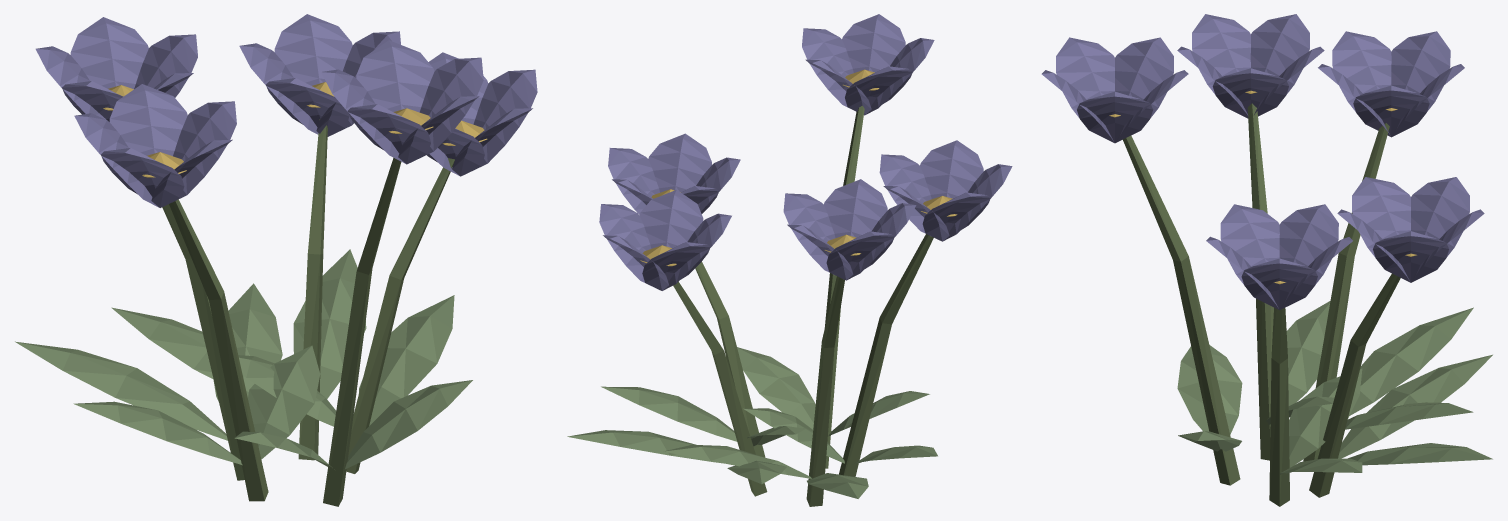
Rendered from alpine_flower_b.glb.
The picture shows the model from 3 angles, left to right: view 1: azimuth 30°, elevation 25°; view 2: azimuth 150°, elevation 25°; view 3: azimuth 270°, elevation 25°; orthographic projection. The views are drawn at different scales.
Parts seen in each view (by area): view 1: geometry; view 2: geometry; view 3: geometry.
Part boxes in pixels (<box>): geometry: <box>15,14,537,506</box>; geometry: <box>567,14,1012,506</box>; geometry: <box>1041,14,1492,506</box>.
Size of the model in its own units: 0.458 by 0.4527 by 0.4377.
